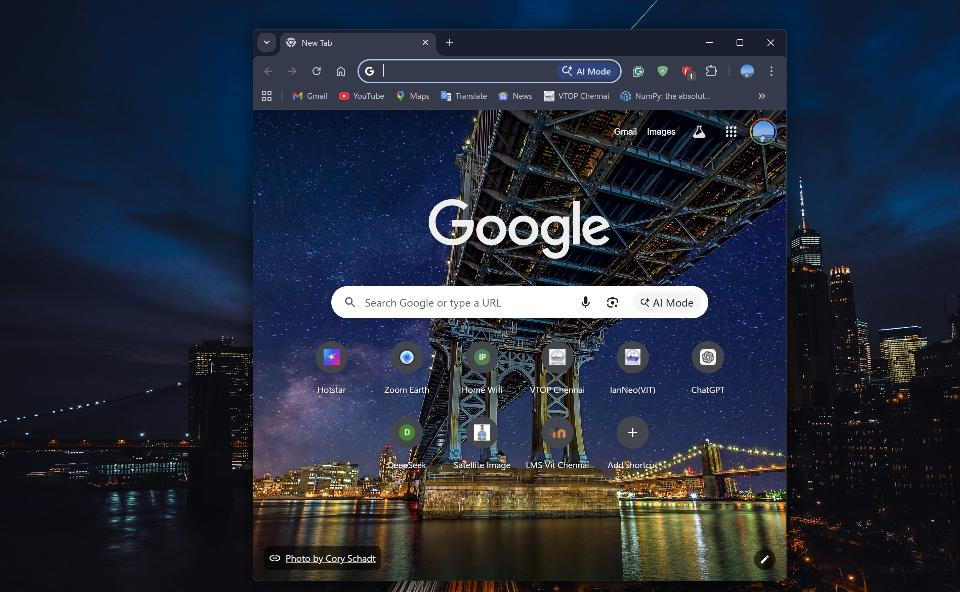close_button: (760, 30, 782, 55)
maximize_button: (729, 29, 753, 55)
minimize_button: (699, 30, 720, 55)
